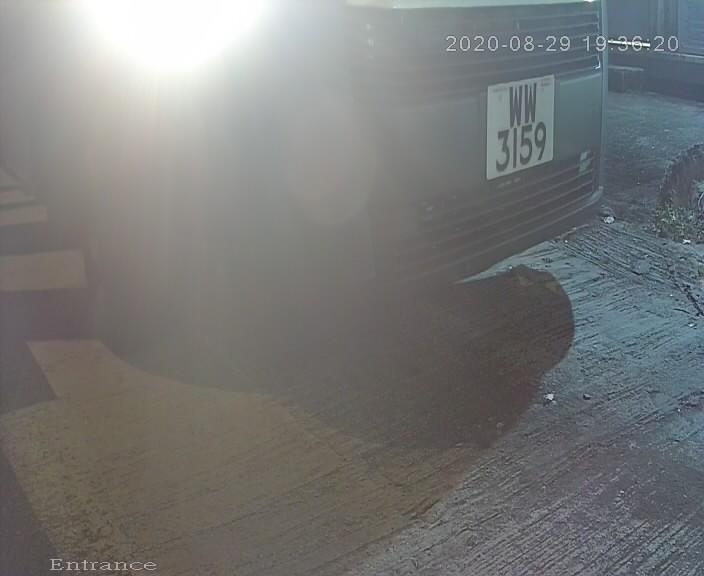License Plate: (472, 62, 563, 191)
